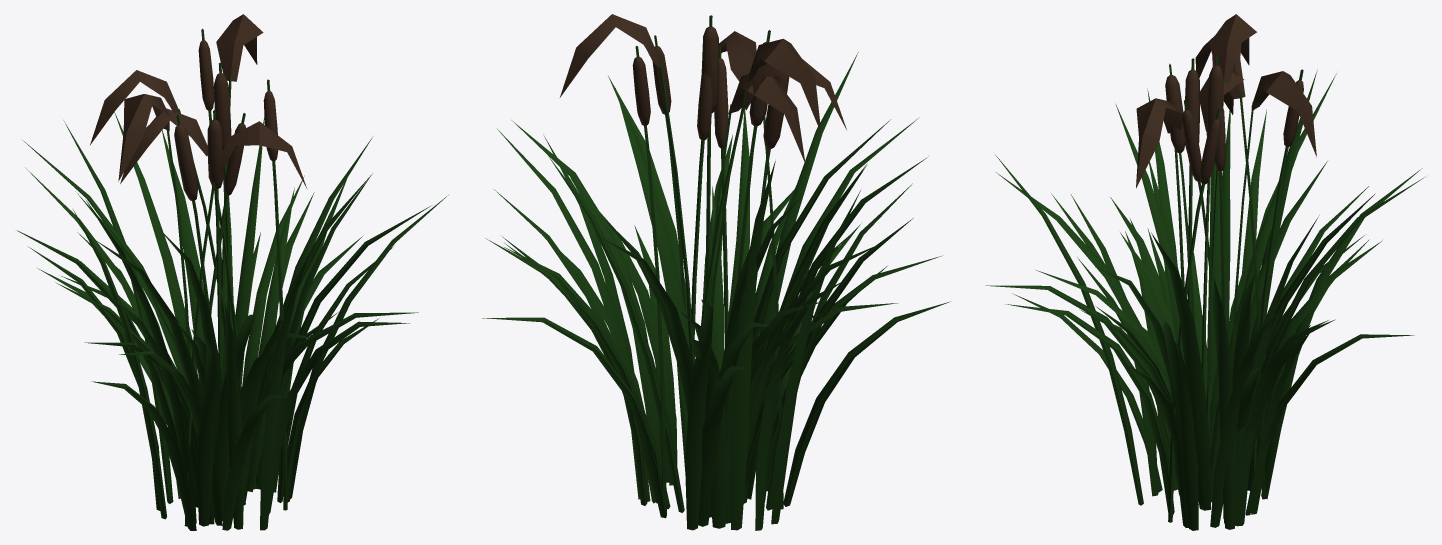
File: ReedClump.fbx
3 views of the same model, side by side, from view 1: azimuth 30°, elevation 25°; view 2: azimuth 150°, elevation 25°; view 3: azimuth 270°, elevation 25° (orthographic). The views are drawn at different scales.
Parts seen in each view (by area): view 1: ReedClump_Blades, ReedClump_Heads; view 2: ReedClump_Blades, ReedClump_Heads; view 3: ReedClump_Blades, ReedClump_Heads.
Boxes of the visible parts, box(x1,y1,x2,y2) form: ReedClump_Blades: box(17, 29, 448, 530); ReedClump_Heads: box(90, 14, 307, 201); ReedClump_Blades: box(482, 15, 950, 530); ReedClump_Heads: box(560, 14, 846, 163); ReedClump_Blades: box(985, 55, 1424, 530); ReedClump_Heads: box(1136, 14, 1316, 188).
Bounding box in the file's own units: 1.45 × 1.63 × 1.44.
